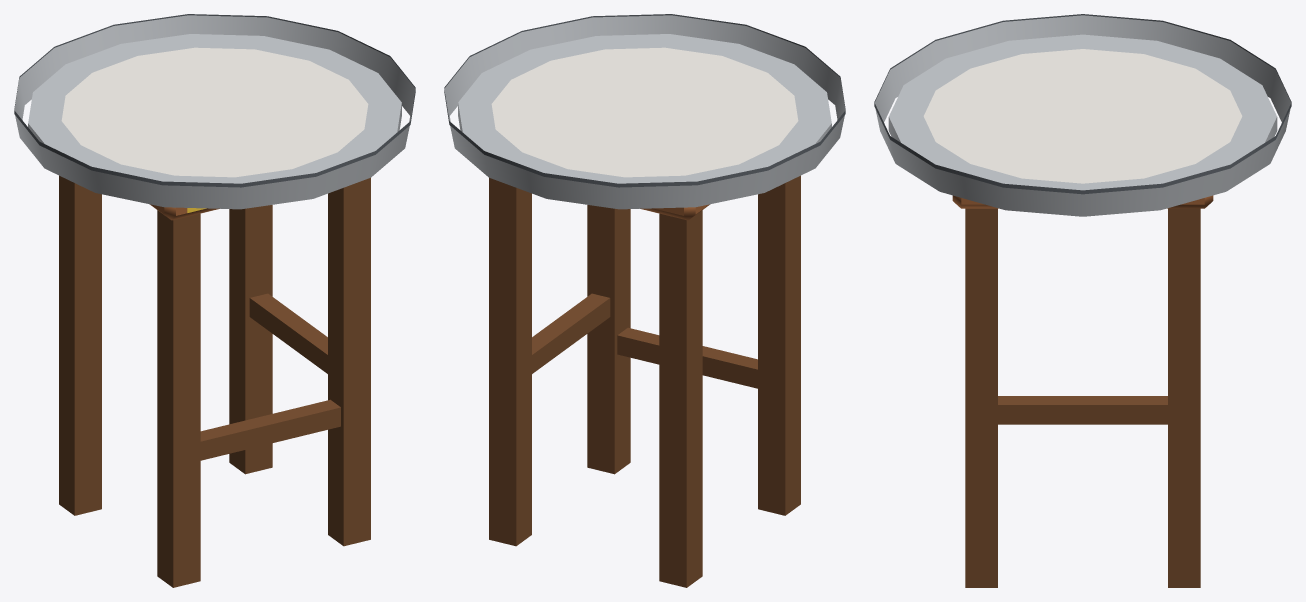
Rendered from plate_stool.glb.
The picture shows the model from 3 angles, left to right: view 1: azimuth 30°, elevation 25°; view 2: azimuth 150°, elevation 25°; view 3: azimuth 270°, elevation 25°; orthographic projection. The views are drawn at different scales.
Parts seen in each view (by area): view 1: plate_stool; view 2: plate_stool; view 3: plate_stool.
Part boxes in pixels (x1=…): plate_stool: x1=14, y1=14, x2=415, y2=587; plate_stool: x1=444, y1=14, x2=845, y2=587; plate_stool: x1=874, y1=14, x2=1291, y2=587.
Size of the model in its own units: 0.576 by 0.664 by 0.576.
Materials: 1 (1 with a texture image).
